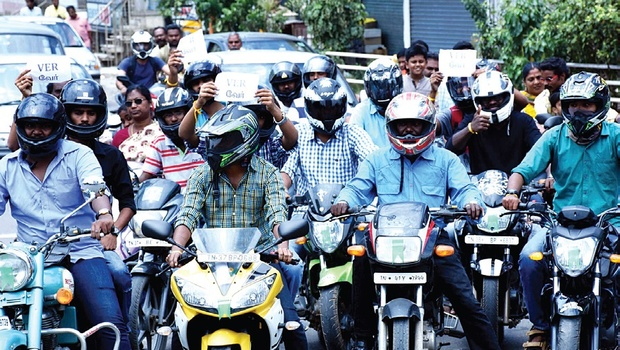helmet: (201, 105, 262, 168), (13, 90, 68, 154), (384, 91, 436, 150), (560, 72, 604, 128), (301, 82, 352, 130), (470, 69, 513, 115), (363, 59, 401, 88), (154, 82, 189, 113), (129, 26, 156, 56)
